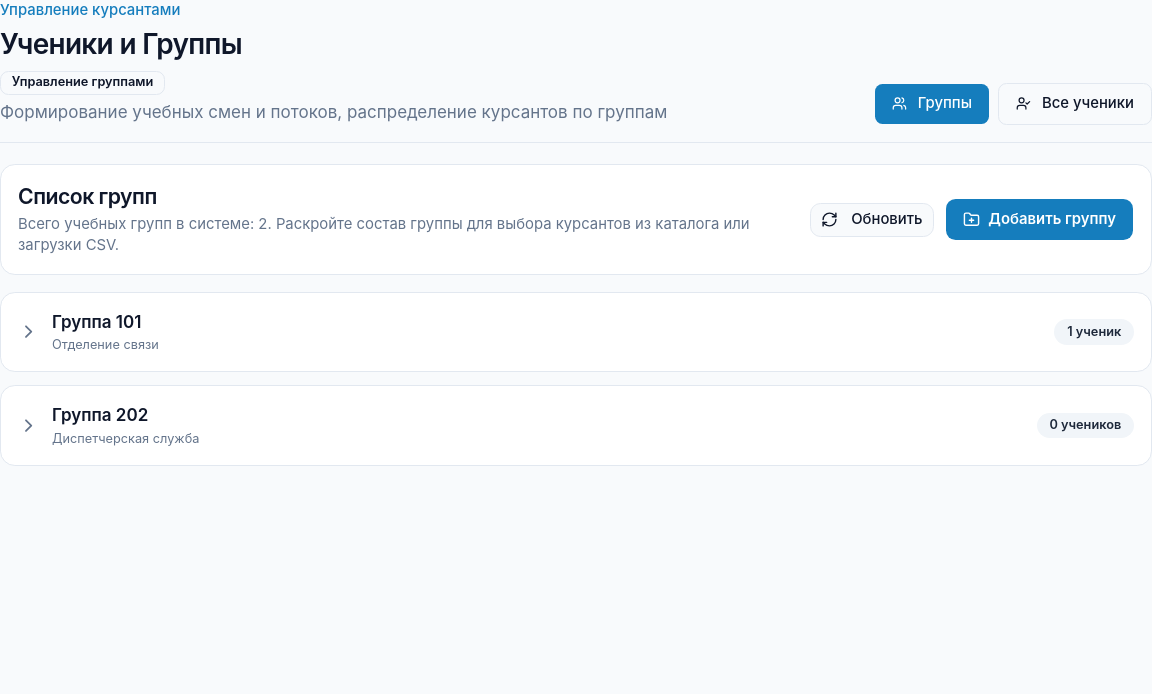
Scenario: 27.1 / ТЗ 29: Рефакторинг управления группами и учениками › should select students from catalog and link them to group via bulk-link endpoint
# Expand group 101
Click the text "Группа 101". click: click(97, 322)
box: [52, 310, 141, 335]
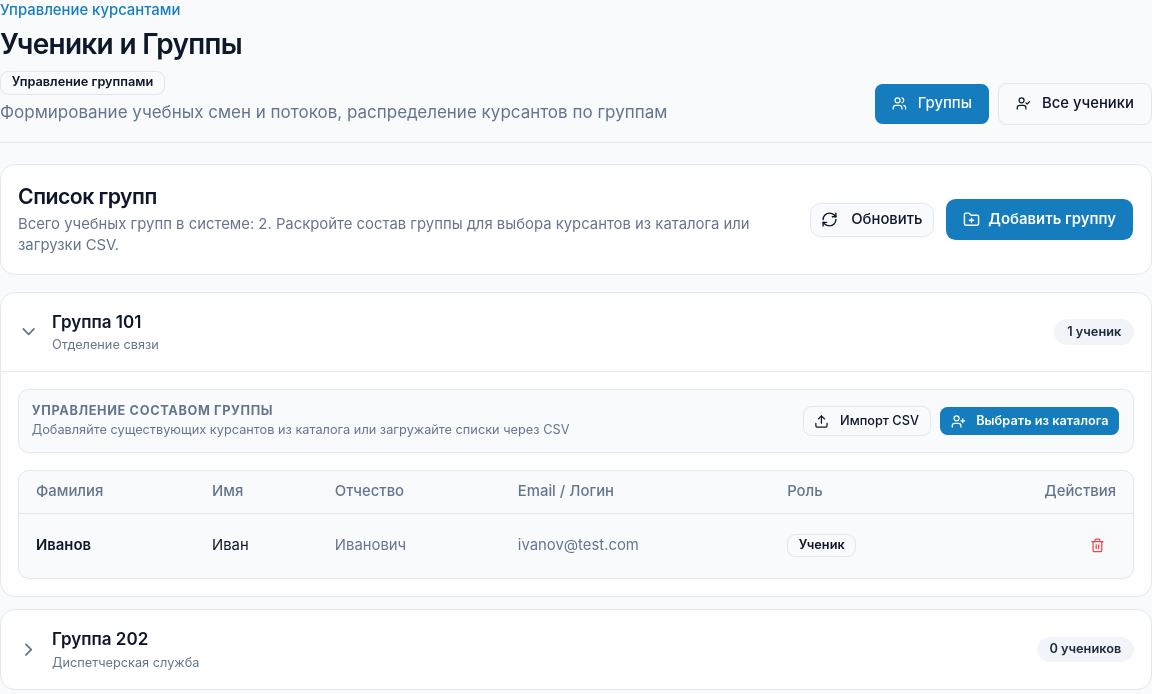
# Find and click "Выбрать из каталога" button
Click the button "Выбрать из каталога". click: click(1030, 421)
box: [939, 406, 1120, 436]
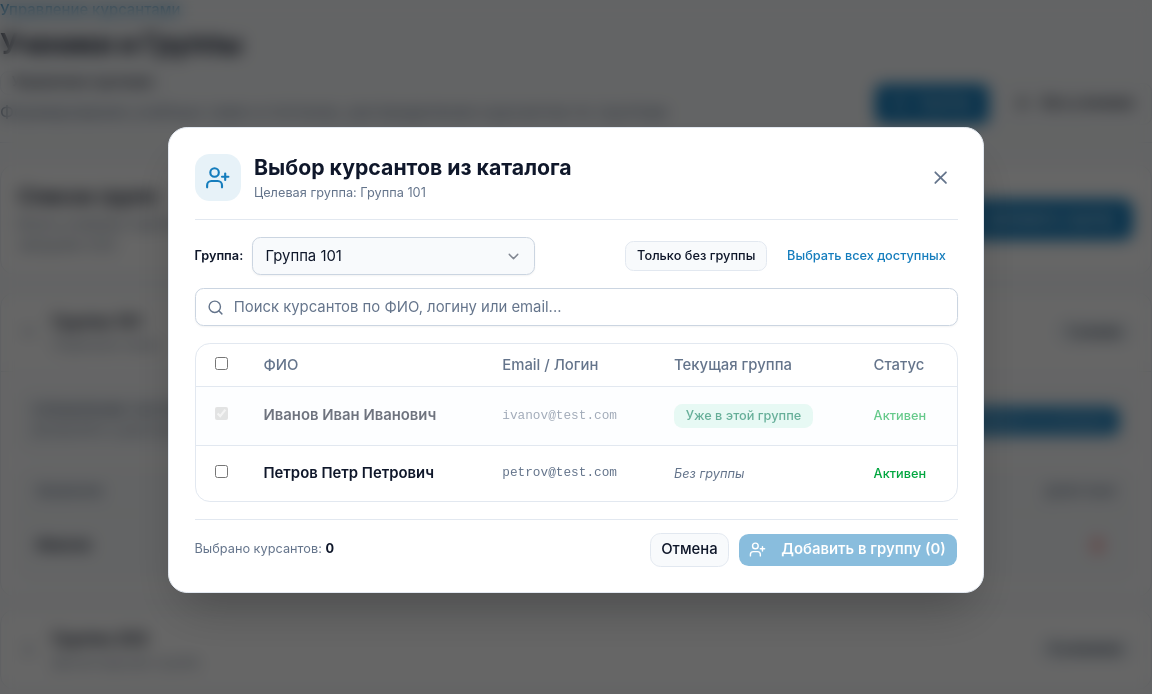
Check: the heading "Выбор курсантов из каталога" is shown, box [254, 153, 572, 183]
Check: the text "Целевая группа: Группа 101" is shown, box [254, 185, 426, 200]
Check: the field with placeholder "Поиск курсантов по ФИО, логину или email..." is shown, box [194, 288, 958, 326]
Click the checkbox in the row of "Петрович". click: click(221, 471)
box: [214, 465, 228, 478]
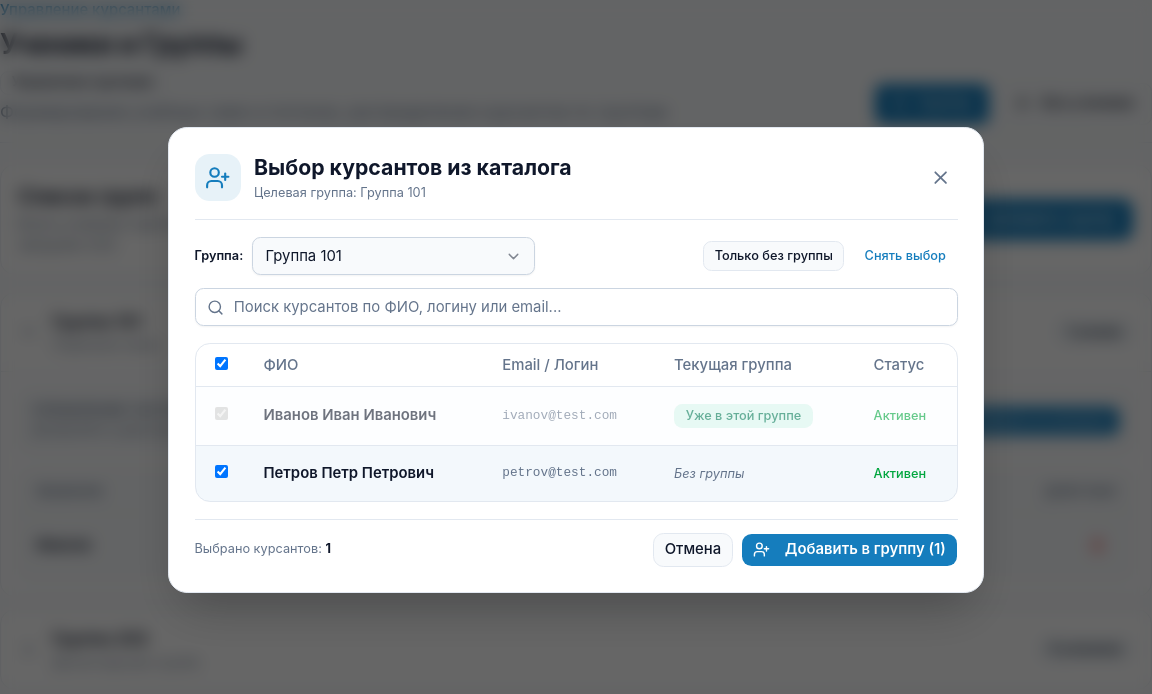
# Submit button should show count: "Добавить в группу (1)"
Click the button "Добавить в группу (1)". click: click(849, 550)
box: [741, 533, 958, 567]
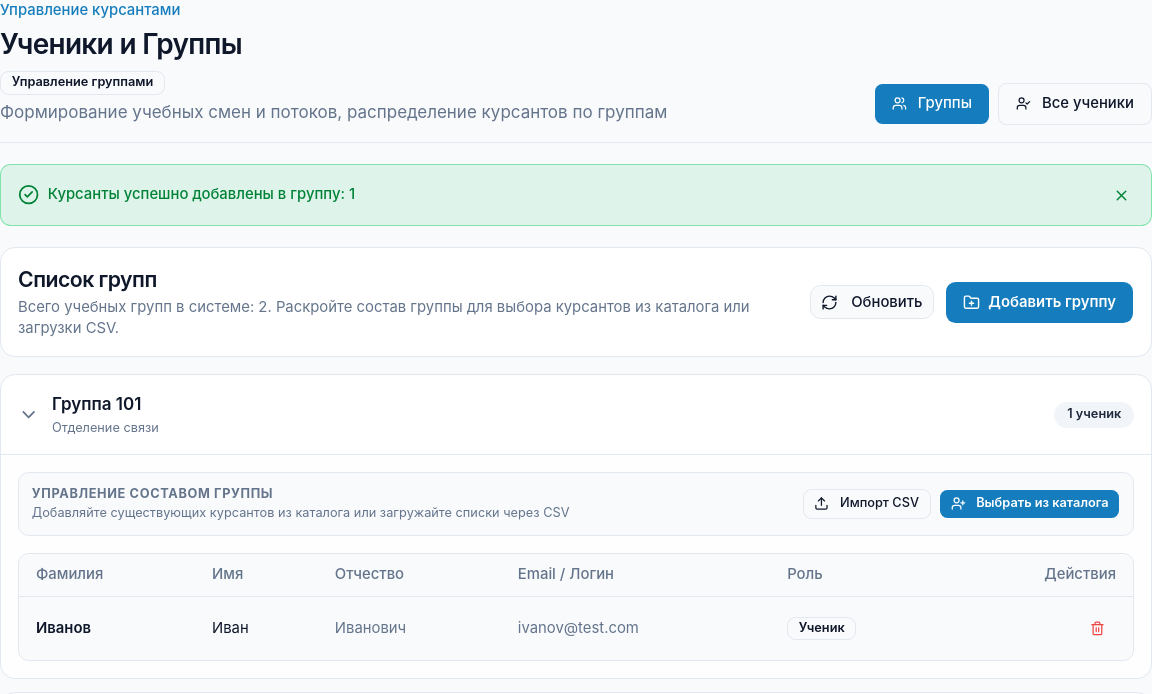
Check: the text "Курсанты успешно добавлены в группу: 1" is shown, box [48, 184, 355, 206]
